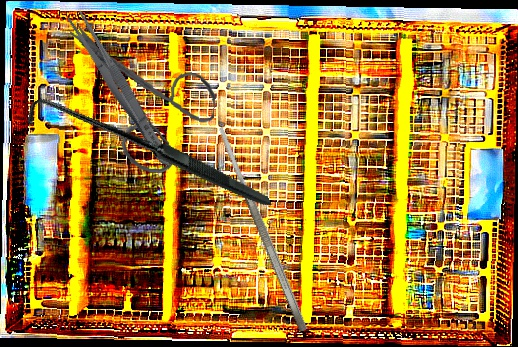Dressing Forceps: (63, 6, 178, 172)
Hook Surgical: (21, 27, 272, 286)
Iris Scissors: (53, 20, 223, 179)
Spatula Surgical: (215, 125, 310, 333)
